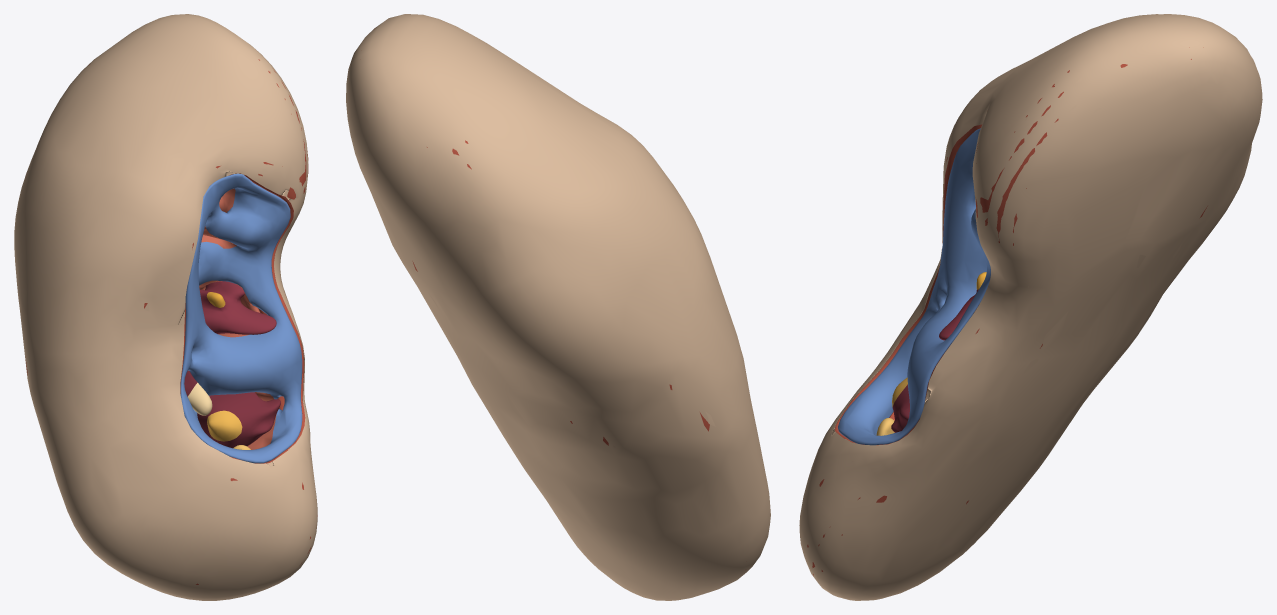
The model's file is rim.glb.
The picture shows the model from 3 angles, left to right: view 1: azimuth 30°, elevation 25°; view 2: azimuth 150°, elevation 25°; view 3: azimuth 270°, elevation 25°; orthographic projection. The views are drawn at different scales.
Parts seen in each view (by area): view 1: VH_M_kidney_capsule_R, VH_M_hilum_of_kidney_R, VH_M_renal_pyramid_f, VH_M_renal_pyramid_h, VH_M_outer_cortex_of_kidney_R, VH_M_renal_column_R, VH_M_renal_papilla_R_h, VH_M_renal_papilla_R_g; view 2: VH_M_kidney_capsule_R; view 3: VH_M_kidney_capsule_R, VH_M_hilum_of_kidney_R, VH_M_outer_cortex_of_kidney_R, VH_M_renal_pyramid_h.
Boxes of the visible parts, x1=… form: VH_M_kidney_capsule_R: x1=14, y1=14, x2=317, y2=600; VH_M_hilum_of_kidney_R: x1=180, y1=173, x2=302, y2=463; VH_M_renal_pyramid_f: x1=199, y1=281, x2=276, y2=334; VH_M_renal_pyramid_h: x1=197, y1=392, x2=280, y2=448; VH_M_outer_cortex_of_kidney_R: x1=25, y1=59, x2=317, y2=584; VH_M_renal_column_R: x1=199, y1=188, x2=276, y2=449; VH_M_renal_papilla_R_h: x1=207, y1=410, x2=242, y2=441; VH_M_renal_papilla_R_g: x1=188, y1=382, x2=212, y2=415; VH_M_kidney_capsule_R: x1=346, y1=14, x2=770, y2=600; VH_M_kidney_capsule_R: x1=799, y1=14, x2=1262, y2=600; VH_M_hilum_of_kidney_R: x1=838, y1=128, x2=990, y2=445; VH_M_outer_cortex_of_kidney_R: x1=807, y1=47, x2=1207, y2=575; VH_M_renal_pyramid_h: x1=891, y1=384, x2=909, y2=432.
Size of the model in its own units: 0.0655 by 0.1125 by 0.0764.
